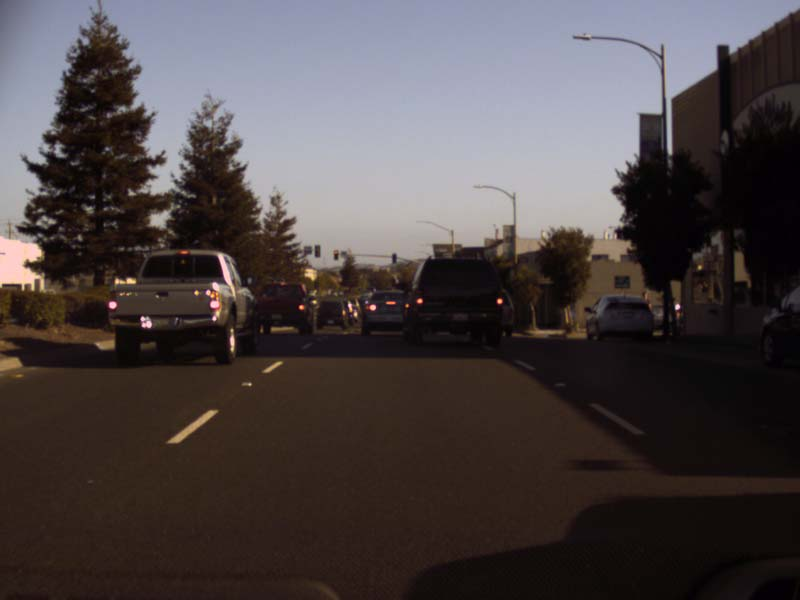Green: (391, 252, 396, 263)
Red: (333, 249, 338, 260)
